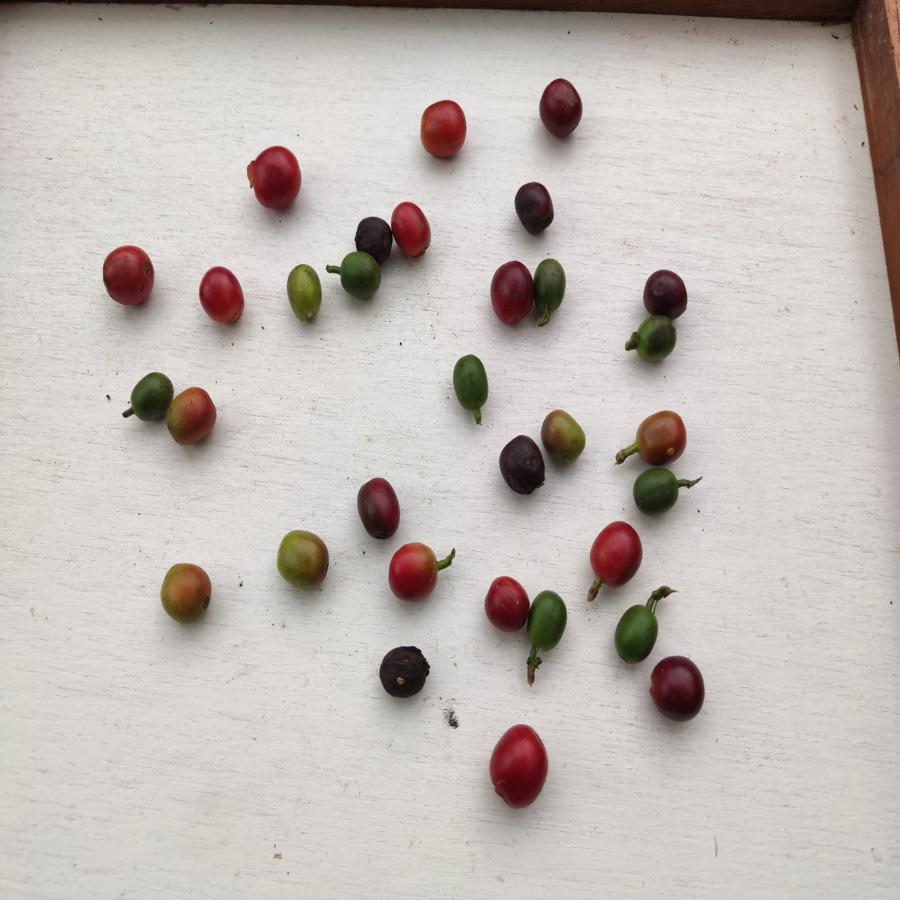Inmaduro: (449, 352, 494, 412), (613, 604, 658, 663), (530, 585, 568, 654), (127, 369, 172, 424), (630, 467, 682, 513), (335, 252, 381, 301), (533, 254, 567, 313), (632, 318, 676, 362)
Maduro: (490, 723, 555, 803), (98, 244, 162, 311), (248, 148, 303, 215), (388, 542, 443, 608), (589, 520, 642, 584), (415, 101, 471, 159), (198, 260, 243, 324), (482, 576, 532, 632), (391, 200, 432, 261)
Pinton: (158, 559, 215, 625), (274, 530, 331, 593), (634, 405, 691, 464), (171, 386, 219, 451), (283, 264, 327, 328), (540, 407, 587, 463)
Sobremaduro: (650, 652, 705, 725), (536, 73, 586, 144), (488, 261, 535, 335), (496, 433, 545, 498), (377, 640, 429, 701), (357, 476, 401, 545), (511, 175, 556, 235), (643, 263, 689, 317), (352, 215, 392, 260)
